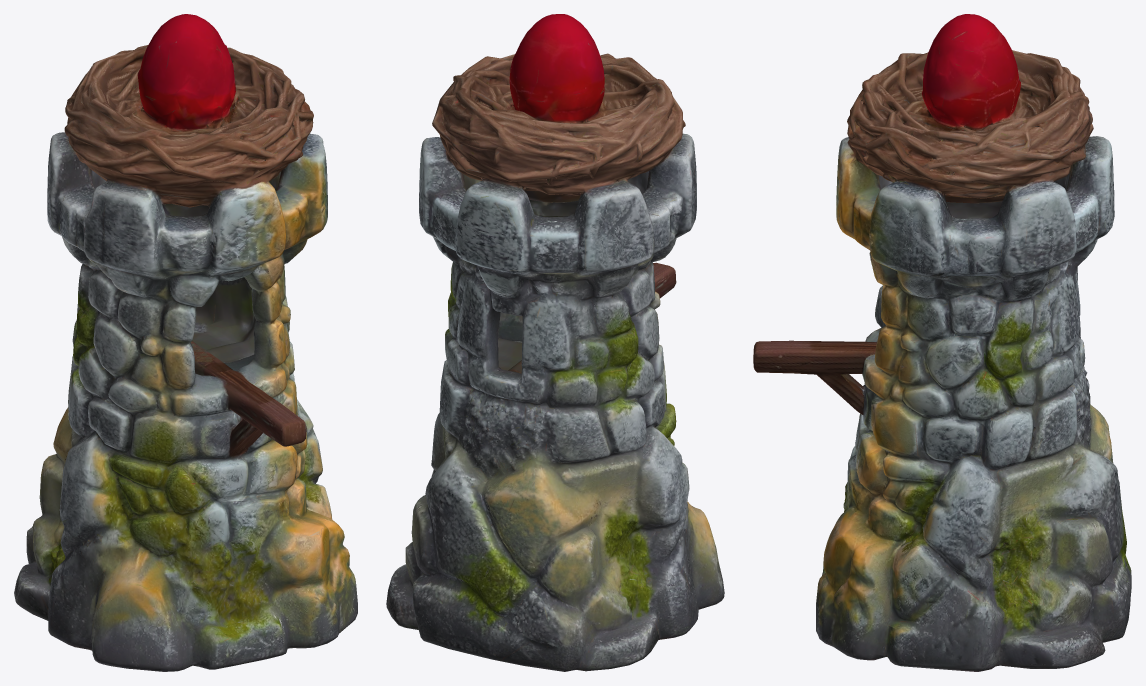
Rendered from roost.glb.
3 views of the same model, side by side, from view 1: azimuth 30°, elevation 25°; view 2: azimuth 150°, elevation 25°; view 3: azimuth 270°, elevation 25° (orthographic).
Visible parts, largest first — view 1: Mesh_0; view 2: Mesh_0; view 3: Mesh_0.
Boxes of the visible parts, x1,y1,x2,y2 form: Mesh_0: (14, 14, 357, 671); Mesh_0: (386, 14, 724, 671); Mesh_0: (753, 14, 1131, 671).
Bounding box in the file's own units: 0.9051 × 1.9 × 1.1.
Materials: 1 (1 with a texture image).
